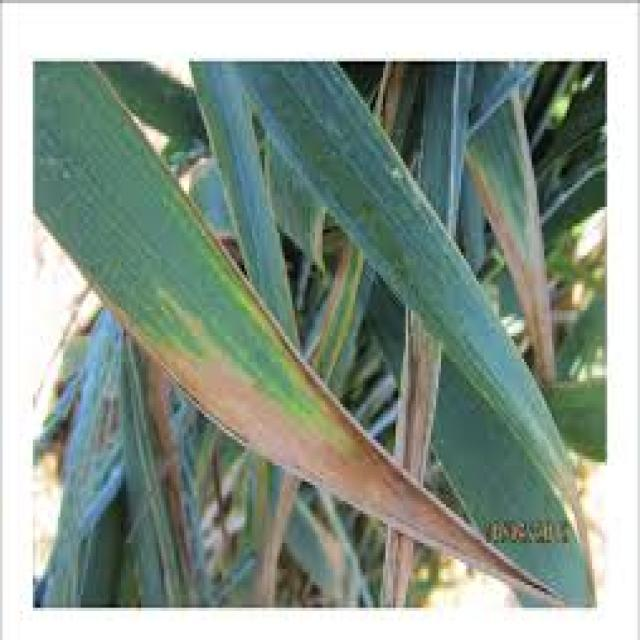leaf_blight: (35, 65, 557, 598)
